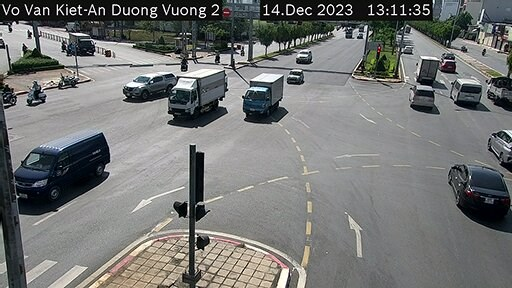car: (11, 134, 117, 204), (444, 158, 509, 212), (113, 72, 174, 99), (448, 75, 481, 108), (492, 125, 512, 168), (408, 82, 433, 109), (286, 68, 303, 87), (443, 57, 457, 76), (297, 48, 313, 64)
truck: (160, 63, 234, 118), (244, 73, 285, 124), (62, 29, 96, 60), (414, 52, 442, 86), (491, 75, 512, 110)
